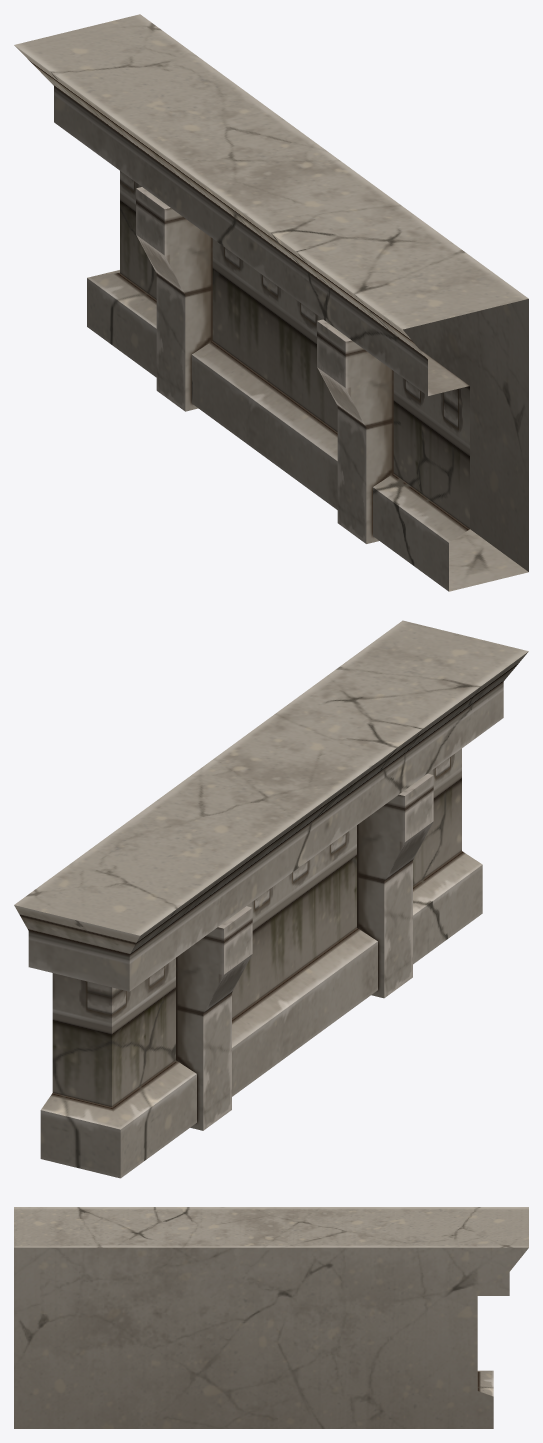
Rendered from cornice01_endL.fbx.
3 renders of one model, top to bottom at view 1: azimuth 30°, elevation 25°; view 2: azimuth 150°, elevation 25°; view 3: azimuth 270°, elevation 25°, orthographic. The views are drawn at different scales.
Parts seen in each view (by area): view 1: cornice01_endL; view 2: cornice01_endL; view 3: cornice01_endL.
Part boxes in pixels (<box>): cornice01_endL: <box>14,14,528,591</box>; cornice01_endL: <box>14,620,528,1178</box>; cornice01_endL: <box>14,1207,528,1428</box>.
Bounding box in the file's own units: 60.38 × 128 × 322.
